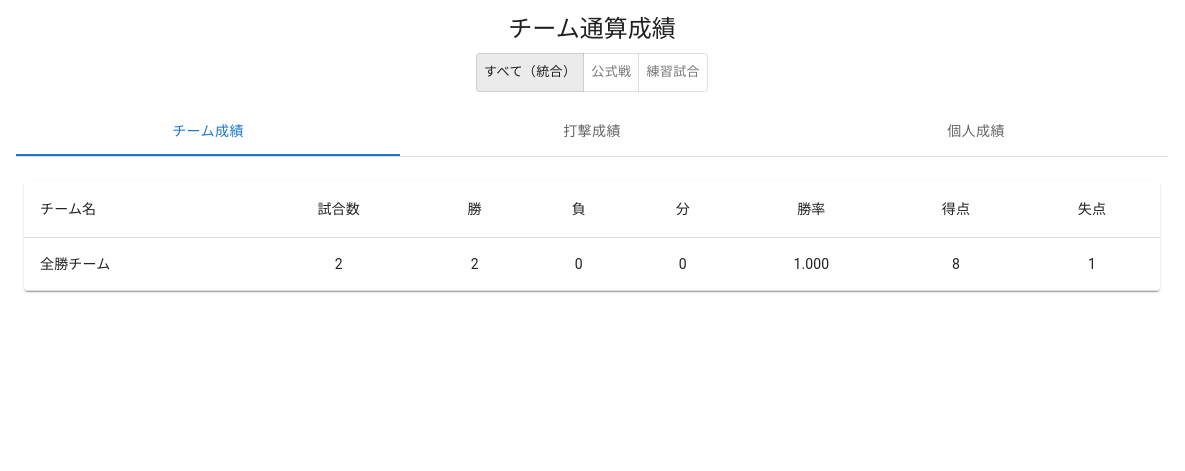
Test: TeamStatsList › 選手一覧で規定打数以上の選手にツールチップの数値が反映される
The width and height of the screenshot is (1185, 471).
expect the column heading "全勝チーム" is shown: met, box [24, 238, 255, 291]
Click the tab "個人成績": (976, 132) [784, 108, 1168, 156]
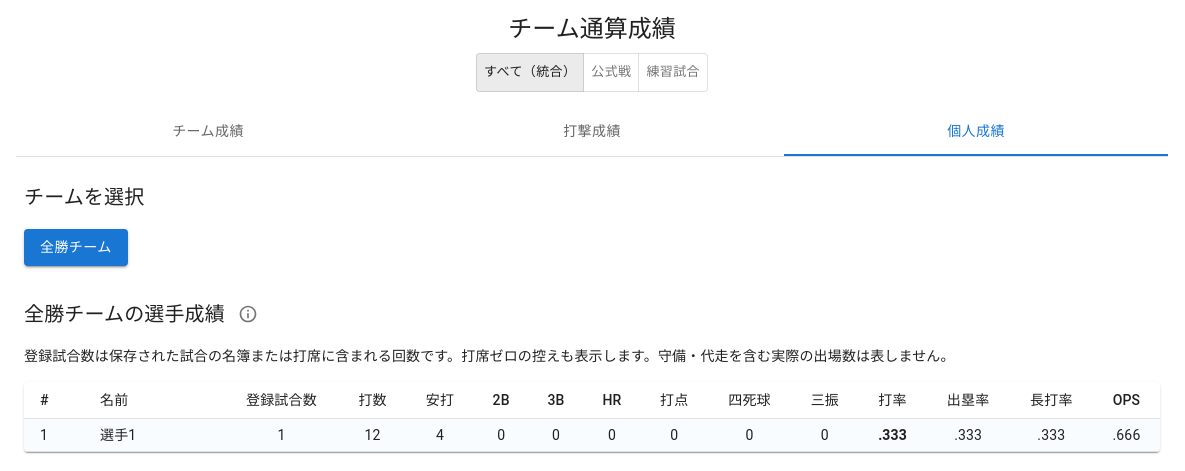
expect the button named "規定打数（10打数以上）に到達した選手を上位表示しています。" is shown: met, box [233, 299, 263, 329]
